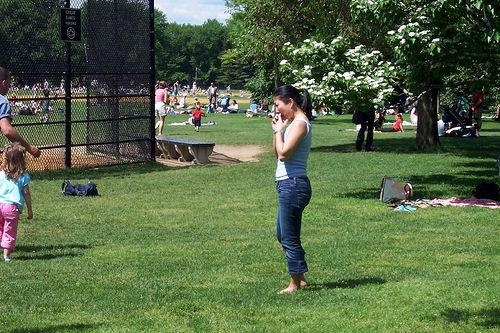person: (262, 84, 318, 296), (1, 143, 33, 255)
